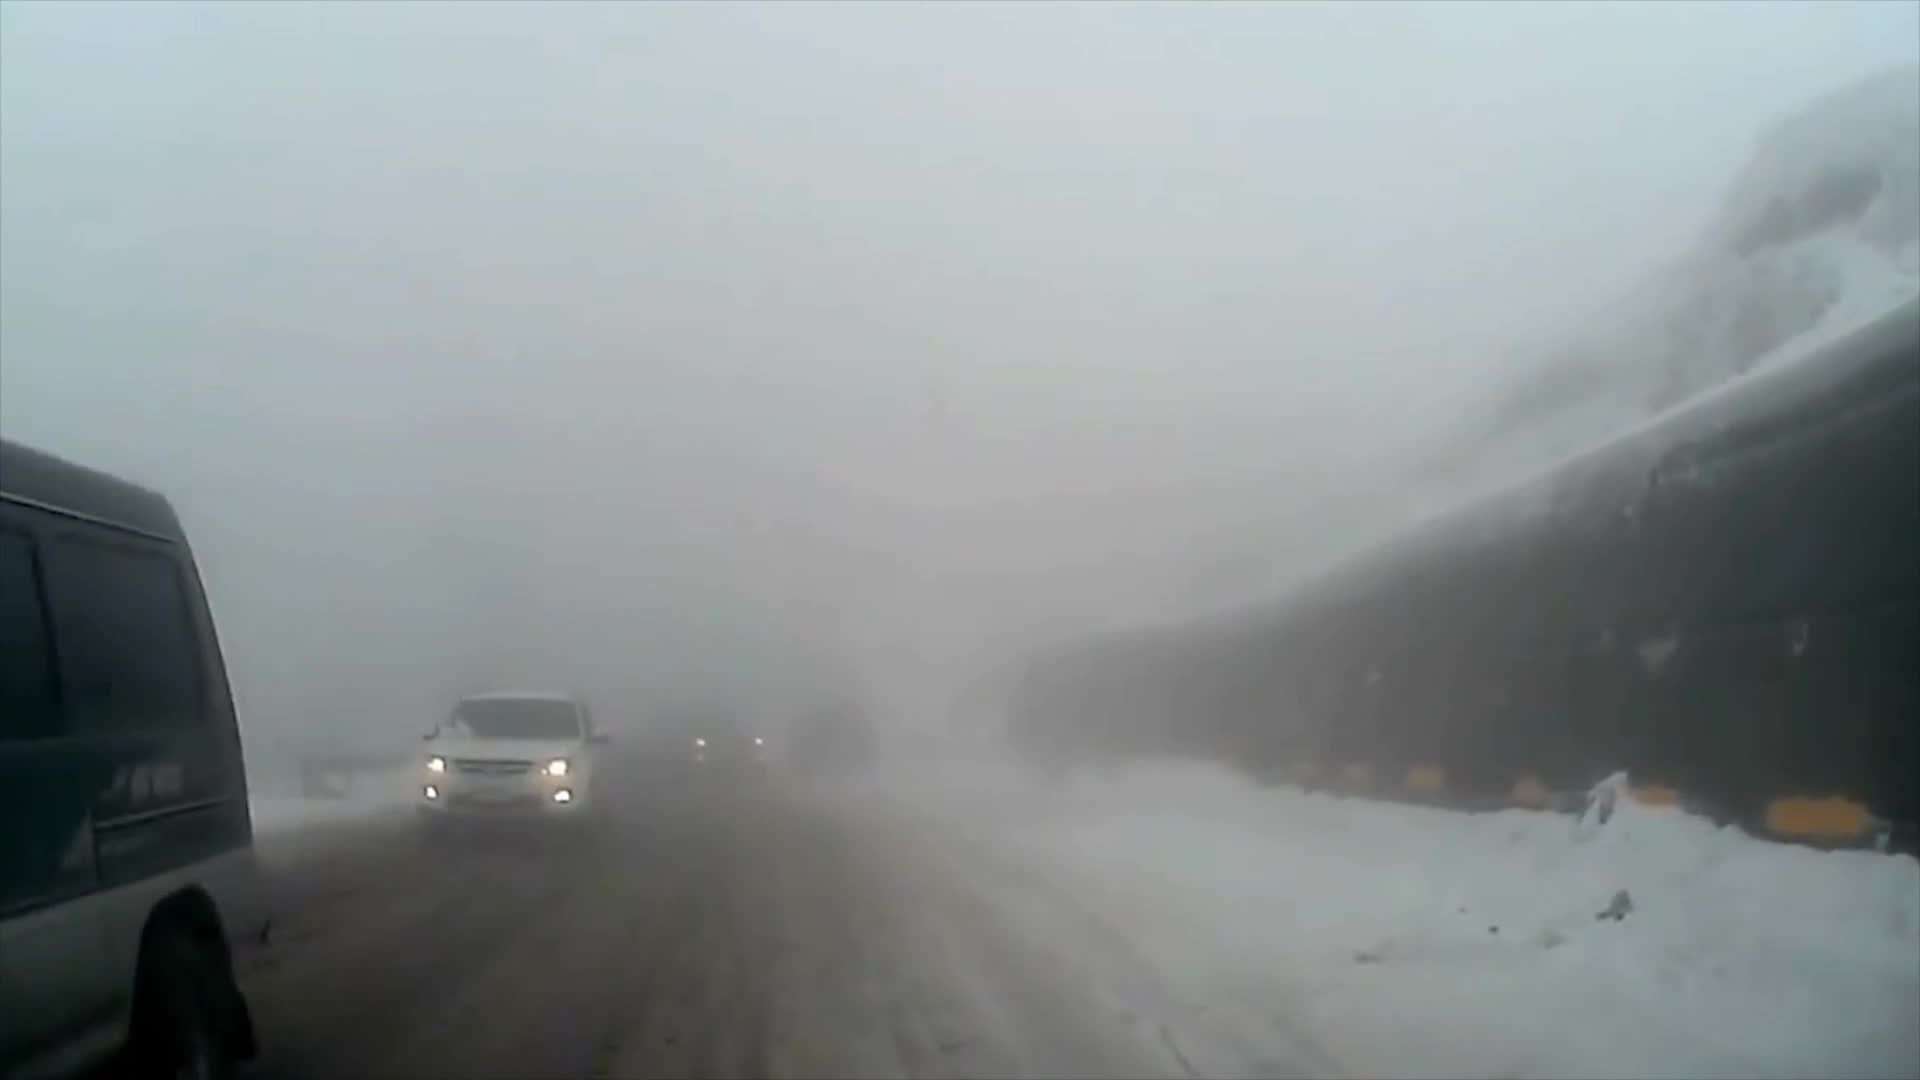vehicle: (0, 436, 262, 1080), (414, 694, 618, 853)
